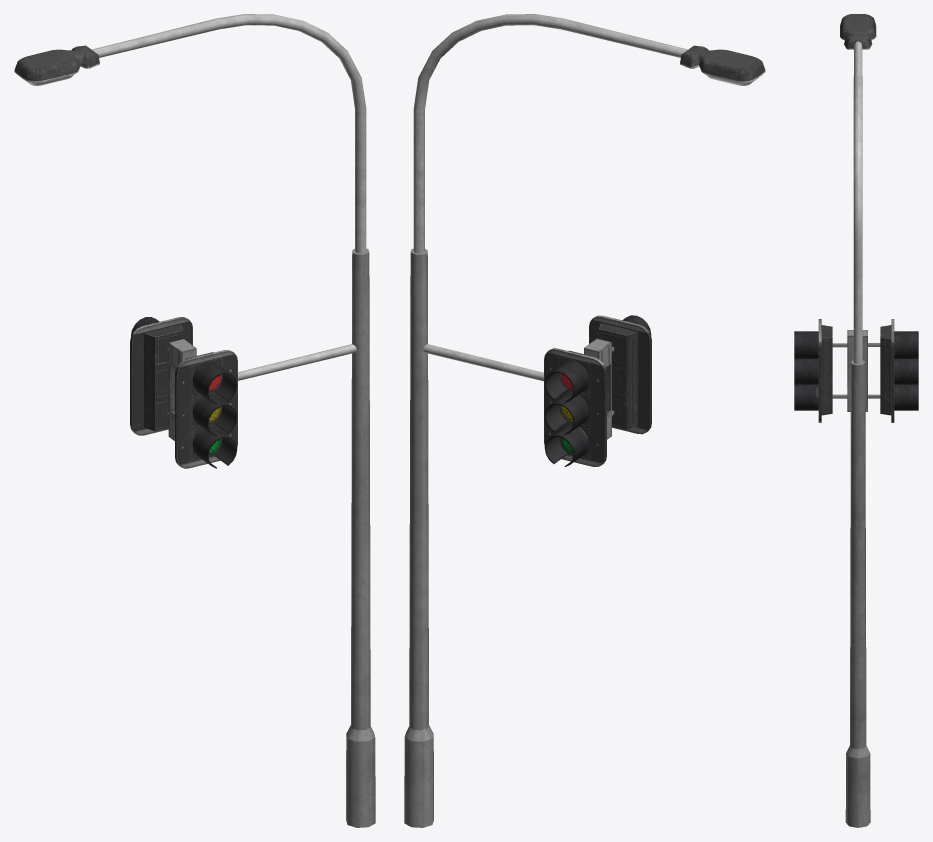
Rendered from PW_Street_Lamp_02.fbx.
The picture shows the model from 3 angles, left to right: view 1: azimuth 30°, elevation 25°; view 2: azimuth 150°, elevation 25°; view 3: azimuth 270°, elevation 25°; orthographic projection. The views are drawn at different scales.
Parts seen in each view (by area): view 1: PW_Street_Lamp_02_LOD0; view 2: PW_Street_Lamp_02_LOD0; view 3: PW_Street_Lamp_02_LOD0.
Boxes of the visible parts, x1=… form: PW_Street_Lamp_02_LOD0: x1=14, y1=14, x2=375, y2=827; PW_Street_Lamp_02_LOD0: x1=404, y1=14, x2=765, y2=827; PW_Street_Lamp_02_LOD0: x1=794, y1=14, x2=918, y2=827.
Size of what is drawn, in the model's own units: 353 by 800 by 133.
